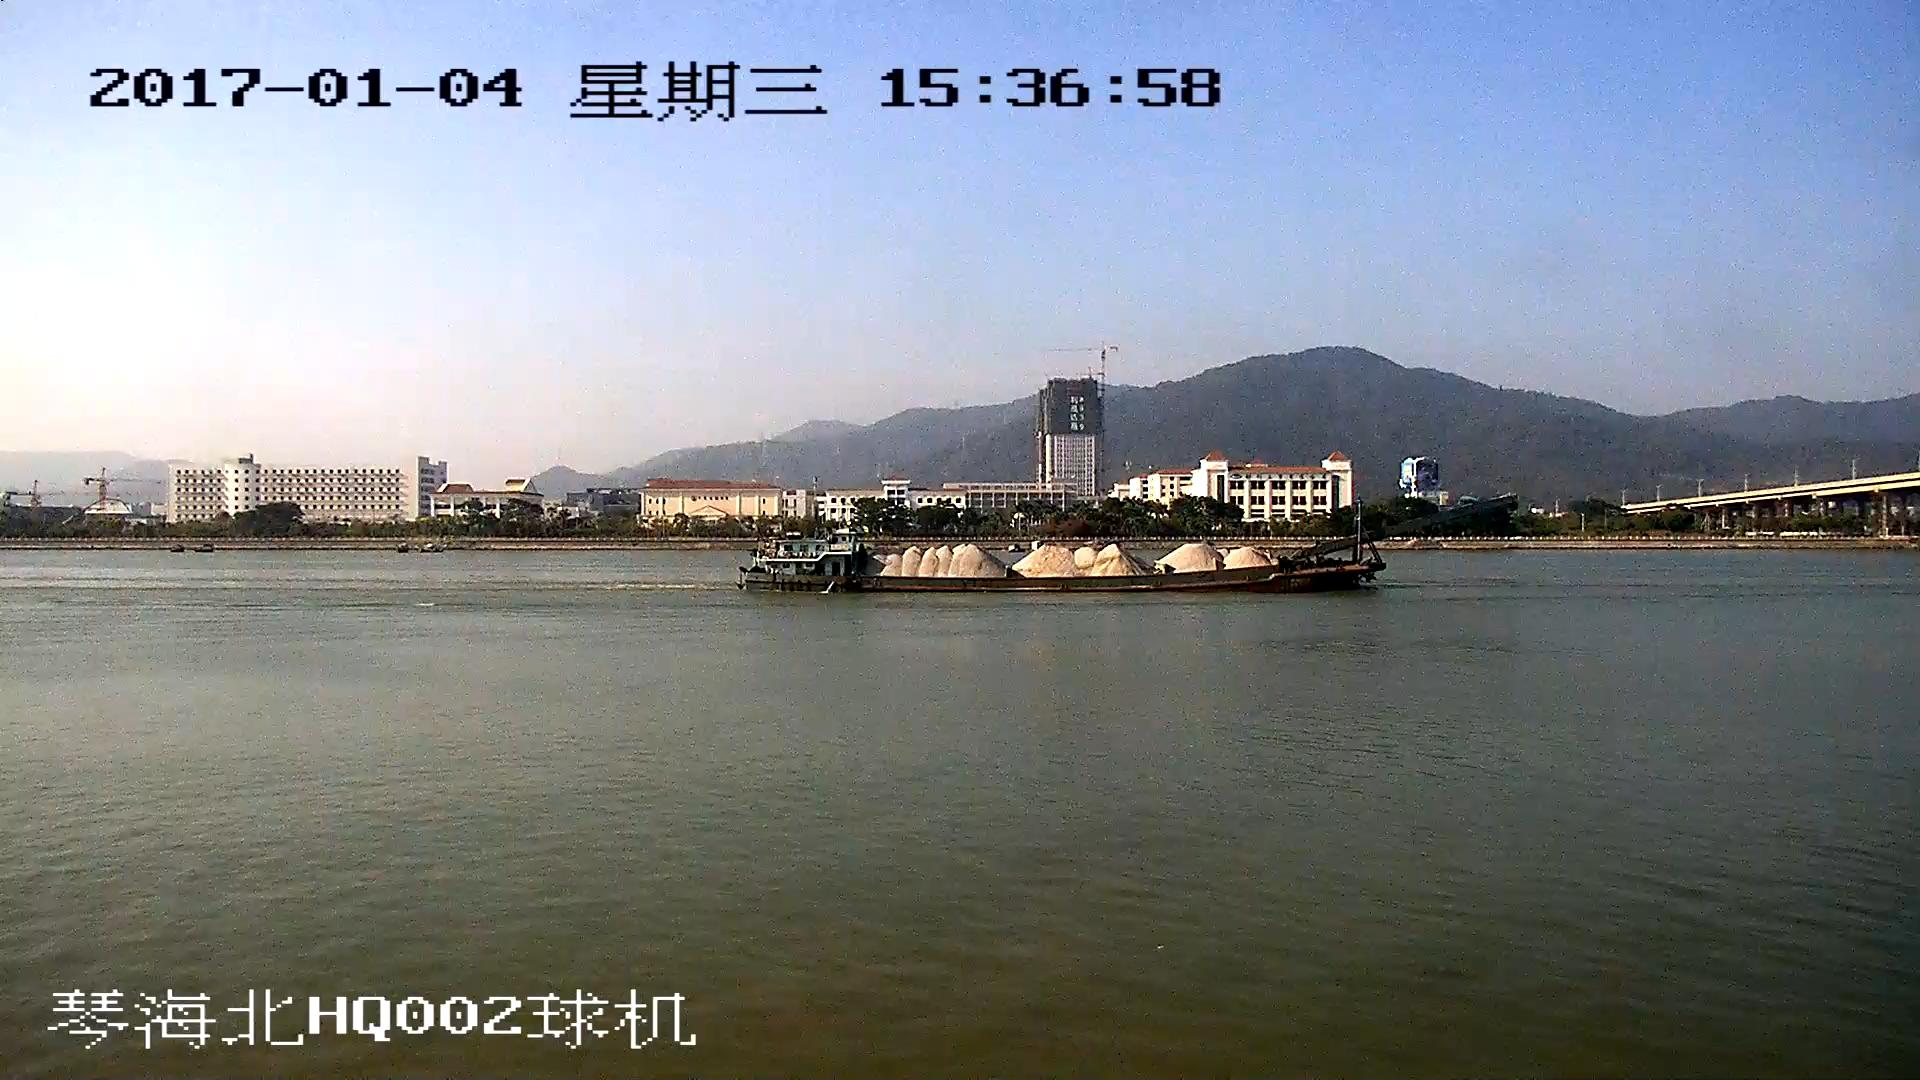ore carrier: (738, 495, 1514, 596)
